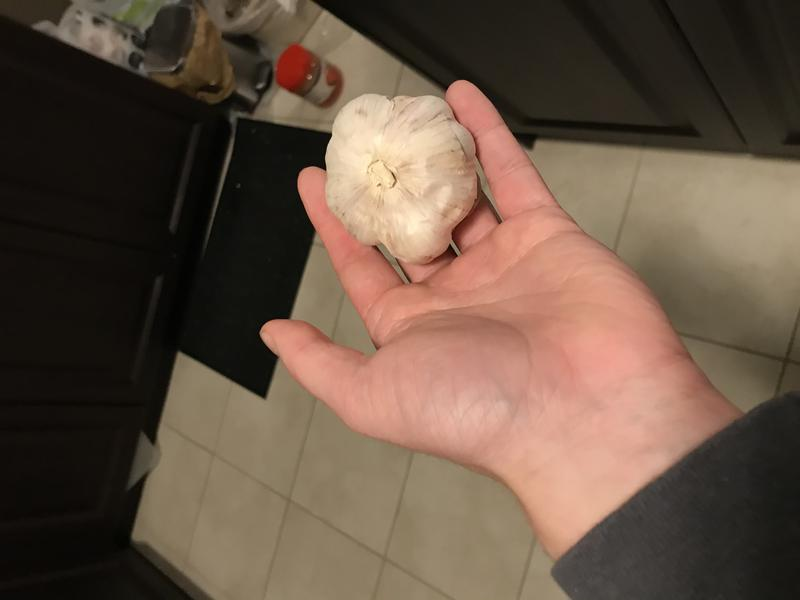garlic: (313, 87, 489, 278)
